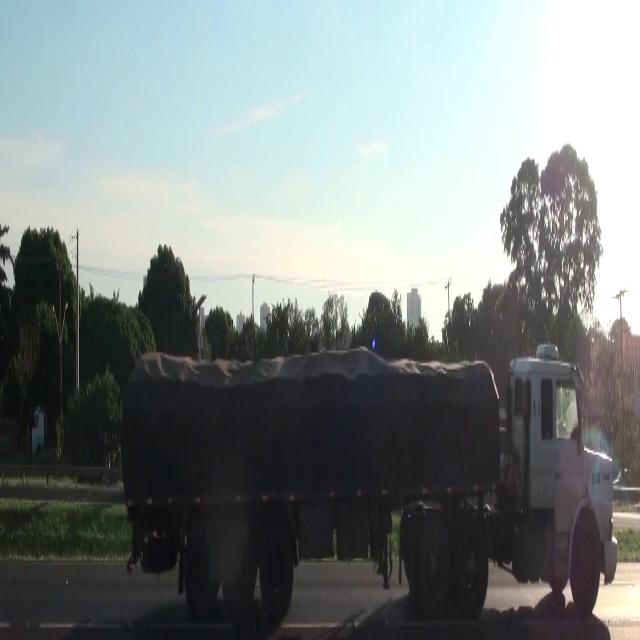-axle: (259, 514, 295, 618), (220, 518, 256, 619), (184, 519, 218, 613), (454, 521, 490, 607), (572, 518, 600, 616), (418, 521, 450, 606)
